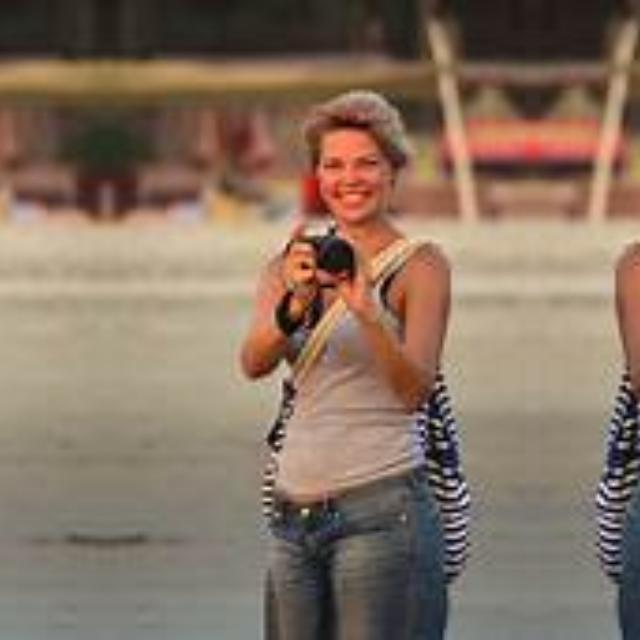person: (234, 95, 490, 608), (575, 94, 640, 607)
